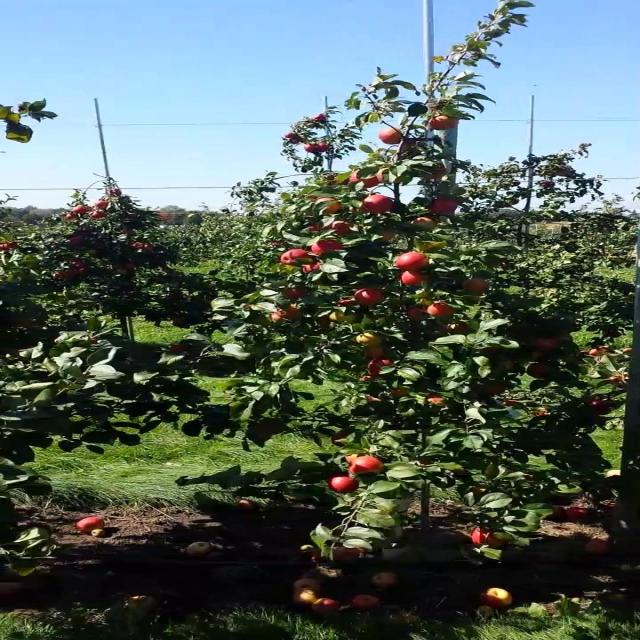apple: (471, 528, 511, 548), (393, 251, 429, 271), (362, 194, 396, 214), (584, 395, 616, 415), (349, 456, 384, 474), (311, 239, 344, 256), (353, 288, 384, 306), (429, 198, 460, 216), (349, 170, 380, 188), (329, 475, 358, 493), (280, 249, 311, 265), (313, 198, 342, 215), (367, 358, 393, 376), (429, 115, 460, 130), (400, 270, 429, 286), (422, 164, 449, 181), (427, 301, 456, 316), (271, 305, 300, 320), (378, 126, 402, 144), (462, 278, 489, 294), (356, 332, 382, 347), (527, 362, 551, 378), (411, 216, 438, 230), (531, 338, 560, 351), (607, 372, 629, 388), (282, 286, 307, 300), (478, 382, 507, 394), (418, 240, 447, 252), (331, 429, 351, 446), (447, 321, 473, 334), (329, 311, 358, 322), (398, 138, 419, 153), (329, 220, 351, 234), (364, 345, 384, 359), (424, 395, 447, 407), (407, 308, 427, 320), (587, 346, 611, 356), (496, 359, 516, 371), (302, 262, 322, 273), (380, 230, 398, 242), (389, 388, 409, 398), (480, 346, 500, 356), (318, 315, 331, 329), (376, 168, 389, 182), (269, 310, 284, 322), (533, 408, 551, 418), (336, 298, 358, 306), (418, 456, 433, 466), (169, 344, 187, 352), (364, 395, 382, 403), (531, 351, 549, 359), (502, 399, 520, 406), (307, 224, 322, 232), (358, 375, 376, 381)
